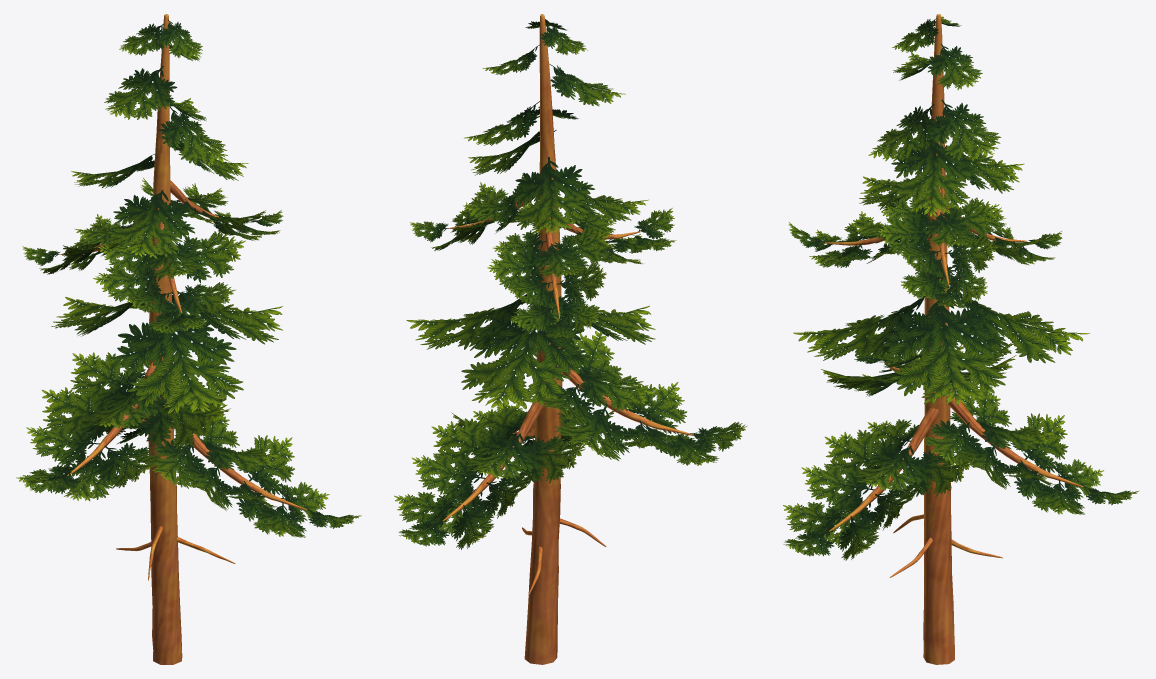
Rendered from small_pine_var2.glb.
The picture shows the model from 3 angles, left to right: view 1: azimuth 30°, elevation 25°; view 2: azimuth 150°, elevation 25°; view 3: azimuth 270°, elevation 25°; orthographic projection.
Visible parts, largest first — view 1: small_stylized_pine_var2_m_leaves_0, small_stylized_pine_var2_m_trunk_0; view 2: small_stylized_pine_var2_m_leaves_0, small_stylized_pine_var2_m_trunk_0; view 3: small_stylized_pine_var2_m_leaves_0, small_stylized_pine_var2_m_trunk_0.
Boxes of the visible parts, x1,y1,x2,y2 form: small_stylized_pine_var2_m_leaves_0: [16, 19, 361, 537]; small_stylized_pine_var2_m_trunk_0: [60, 14, 306, 664]; small_stylized_pine_var2_m_leaves_0: [394, 19, 747, 549]; small_stylized_pine_var2_m_trunk_0: [443, 14, 693, 664]; small_stylized_pine_var2_m_leaves_0: [783, 16, 1139, 560]; small_stylized_pine_var2_m_trunk_0: [824, 14, 1083, 664].
Bounding box in the file's own units: 3.48 × 7.07 × 3.61.
Materials: 2 (2 with a texture image).
